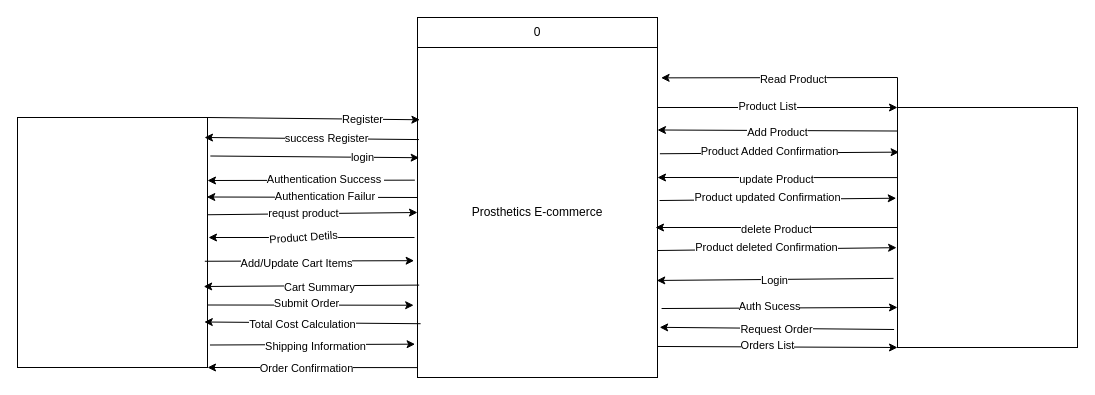
Image size: 1095x395. Some labels were removed from this diagram. The shapes that lost their labels are listed below. From the top down, each one's centre as x and y in pixels, then its label:
the point at 112,242: user
the point at 987,227: Admin
